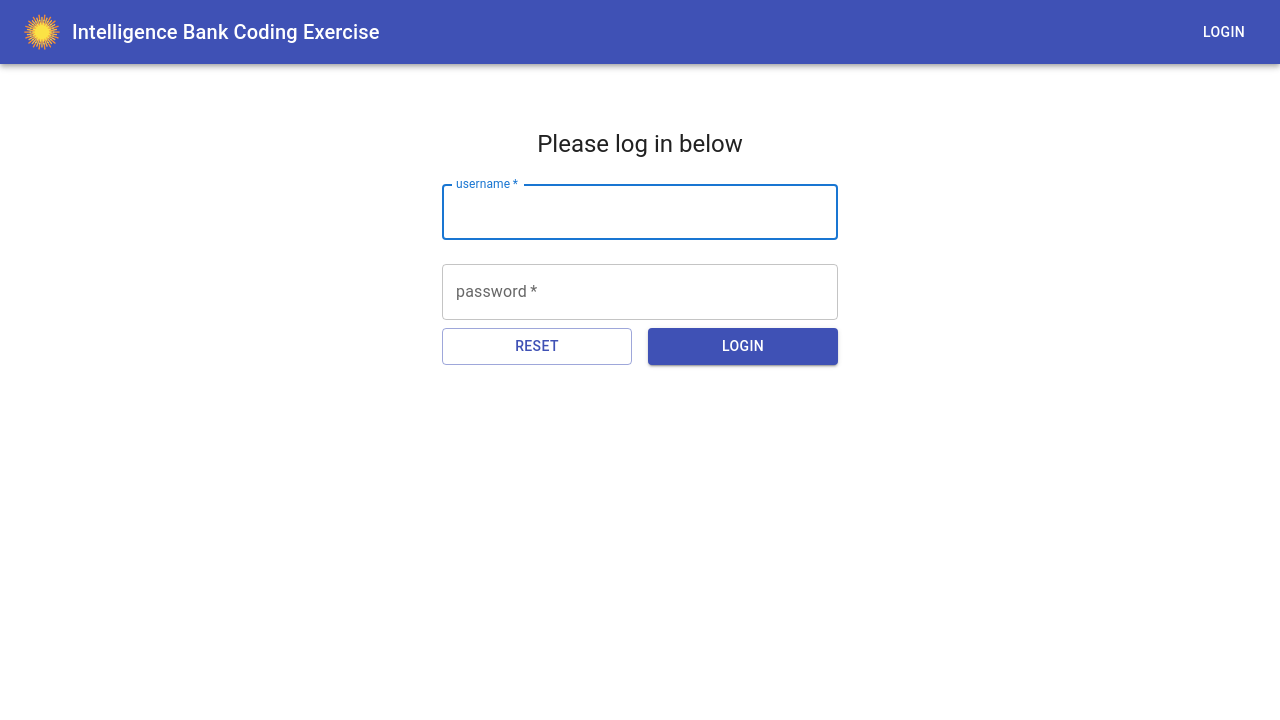
Scenario: test when user enter input › should display error message when user enter empty input
Click the button "Login" below "password": [743, 346] box [648, 328, 838, 364]
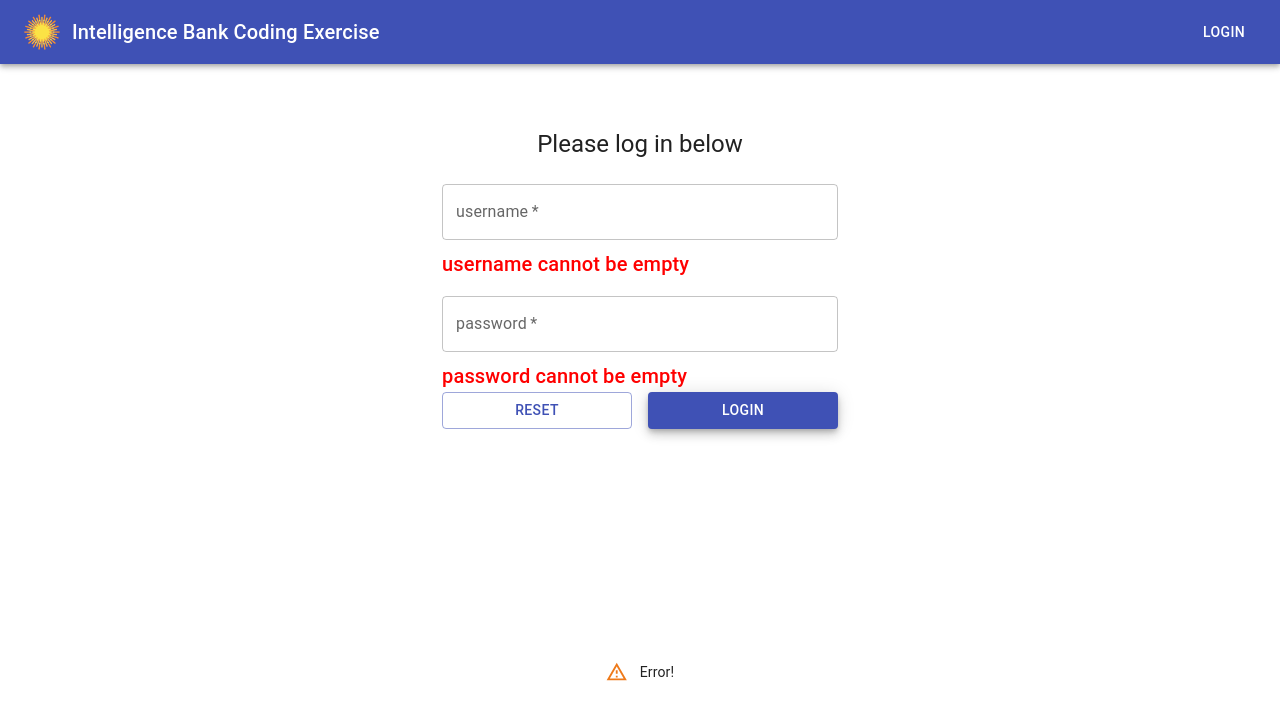
Now the text "username cannot be empty" is shown, box [442, 252, 689, 276]
Now the text "password cannot be empty" is shown, box [442, 364, 687, 388]
